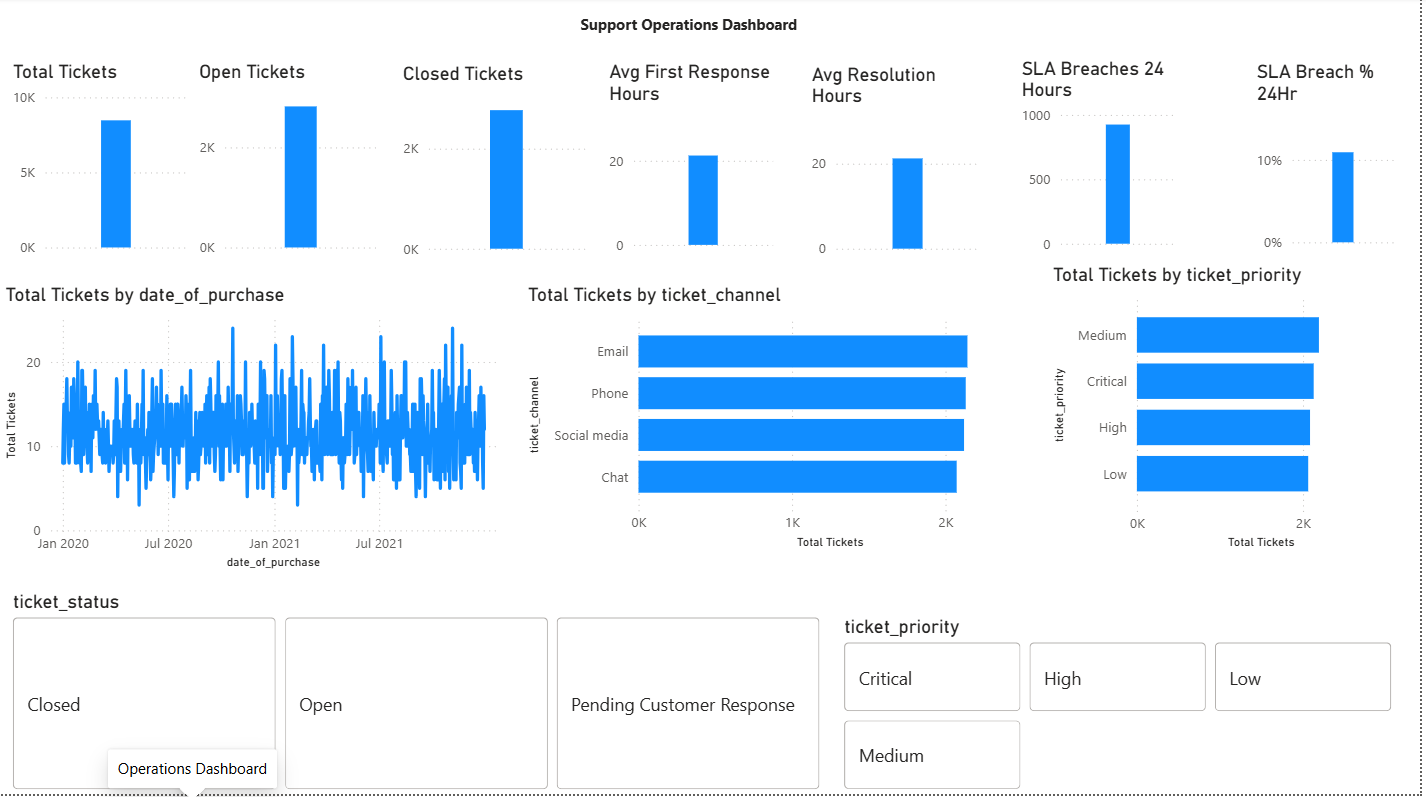

What the dashboard file says about the page in this screenshot:
{"tool":"powerbi","page":{"name":"Operations Dashboard","canvas":[1280,720],"ordinal":0},"visuals":[{"type":"clusteredColumnChart","fields":{"Y":["public tickets.Total Tickets"]},"box":[7,57,167.4,182.6],"z":0},{"type":"clusteredColumnChart","fields":{"Y":["public tickets.Open Tickets"]},"box":[174.4,57,170.9,182.6],"z":1},{"type":"clusteredColumnChart","fields":{"Y":["public tickets.Closed Tickets"]},"box":[358.1,58.1,174.4,182.6],"z":2},{"type":"clusteredColumnChart","fields":{"Y":["public tickets.Avg First Response Hours"]},"box":[544.2,57,158.1,180.2],"z":3},{"type":"clusteredColumnChart","fields":{"Y":["public tickets.Avg Resolution Hours"]},"box":[726.7,59.3,161.6,181.4],"z":4},{"type":"clusteredColumnChart","fields":{"Y":["public tickets.SLA Breaches 24 Hours"]},"box":[916.3,54.7,148.8,182.6],"z":7},{"type":"clusteredColumnChart","fields":{"Y":["public tickets.SLA Breach % 24Hr"]},"box":[1127.9,57,133.7,177.9],"z":8},{"type":"lineChart","fields":{"Y":["public tickets.Total Tickets"],"Category":["public tickets.date_of_purchase"]},"box":[0,258.1,464,262.8],"z":9},{"type":"barChart","fields":{"Category":["public tickets.ticket_priority"],"Y":["public tickets.Total Tickets"]},"box":[944.2,239.5,317.4,262.8],"z":10},{"type":"barChart","fields":{"Category":["public tickets.ticket_channel"],"Y":["public tickets.Total Tickets"]},"box":[470.9,258.1,462.8,244.2],"z":11},{"type":"advancedSlicerVisual","fields":{"Values":["public tickets.ticket_status"]},"box":[7,534.9,737.2,184.9],"z":12},{"type":"advancedSlicerVisual","fields":{"Values":["public tickets.ticket_priority"]},"box":[755.8,558.1,505.8,161.6],"z":13},{"type":"textbox","box":[518.6,10.5,209.3,33.7],"z":14}]}

Visuals, with their boxes in screenshot pixels (x1, y1, x2, y2), scaled from the page's 1280x720 canvas onto the 1426x797 screenshot:
clusteredColumnChart - public tickets.Total Tickets: bbox=(8, 63, 194, 265)
clusteredColumnChart - public tickets.Open Tickets: bbox=(194, 63, 385, 265)
clusteredColumnChart - public tickets.Closed Tickets: bbox=(399, 64, 593, 266)
clusteredColumnChart - public tickets.Avg First Response Hours: bbox=(606, 63, 782, 263)
clusteredColumnChart - public tickets.Avg Resolution Hours: bbox=(810, 66, 990, 266)
clusteredColumnChart - public tickets.SLA Breaches 24 Hours: bbox=(1021, 61, 1187, 263)
clusteredColumnChart - public tickets.SLA Breach % 24Hr: bbox=(1257, 63, 1406, 260)
lineChart - public tickets.Total Tickets x public tickets.date_of_purchase: bbox=(0, 286, 517, 577)
barChart - public tickets.ticket_priority x public tickets.Total Tickets: bbox=(1052, 265, 1406, 556)
barChart - public tickets.ticket_channel x public tickets.Total Tickets: bbox=(525, 286, 1040, 556)
advancedSlicerVisual - public tickets.ticket_status: bbox=(8, 592, 829, 796)
advancedSlicerVisual - public tickets.ticket_priority: bbox=(842, 618, 1406, 796)
textbox: bbox=(578, 12, 811, 49)
